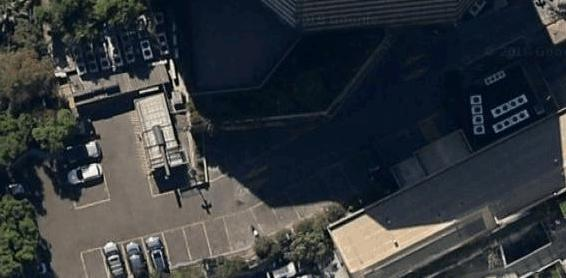parkingspot: (79, 127, 417, 278), (60, 120, 111, 212)
